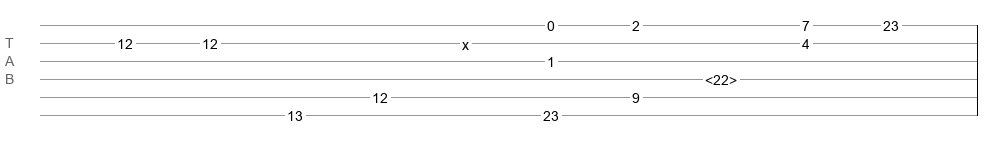0: (547, 18, 555, 28)
1: (547, 54, 555, 64)
12: (117, 36, 133, 46), (202, 36, 218, 46), (372, 90, 388, 100)
13: (287, 108, 303, 118)
2: (632, 18, 640, 28)
23: (543, 108, 559, 118), (883, 18, 899, 28)
4: (802, 36, 810, 46)
7: (802, 18, 810, 28)
9: (632, 90, 640, 100)
harmonic: (705, 72, 737, 82)
x: (462, 37, 469, 45)
